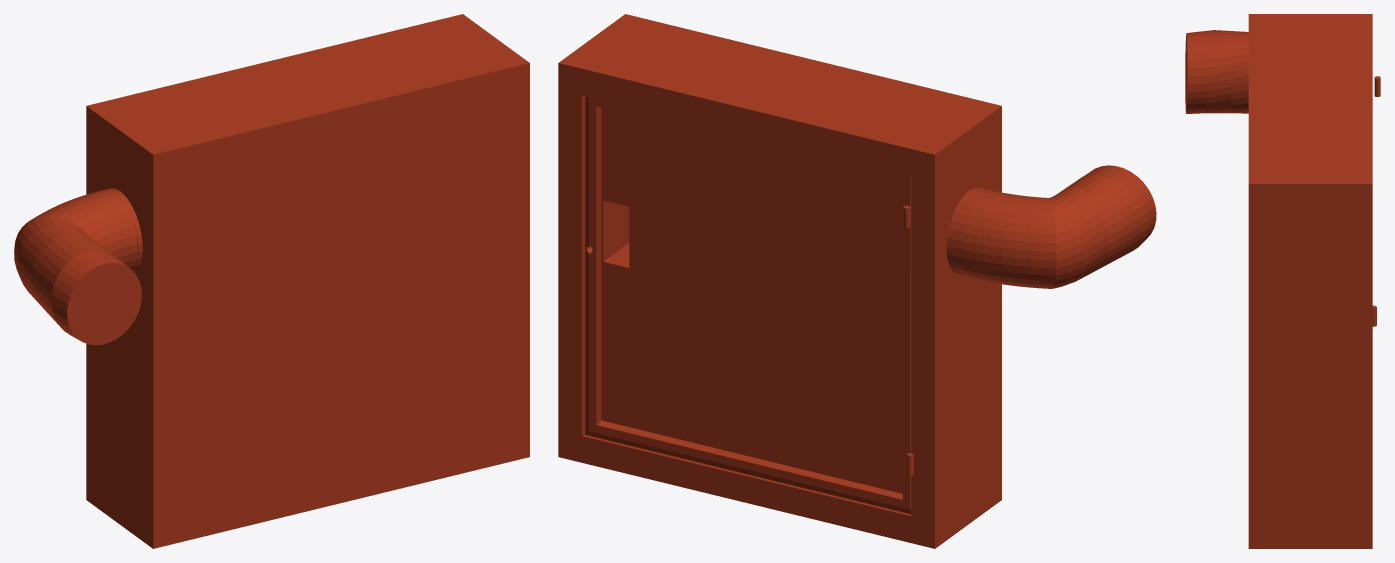
Rendered from NichosHidrantes_JeremiasA_47297677.fbx.
3 views of the same model, side by side, from view 1: azimuth 30°, elevation 25°; view 2: azimuth 150°, elevation 25°; view 3: azimuth 270°, elevation 25° (orthographic). The views are drawn at different scales.
Parts seen in each view (by area): view 1: Cube; view 2: Cube; view 3: Cube.
Part boxes in pixels (x1,y1,x2,y2): Cube: (14, 14, 529, 548); Cube: (558, 14, 1156, 548); Cube: (1185, 14, 1380, 548).
Size of the model in its own units: 173 by 130 by 63.15.
Materials: 1 (1 with a texture image).
